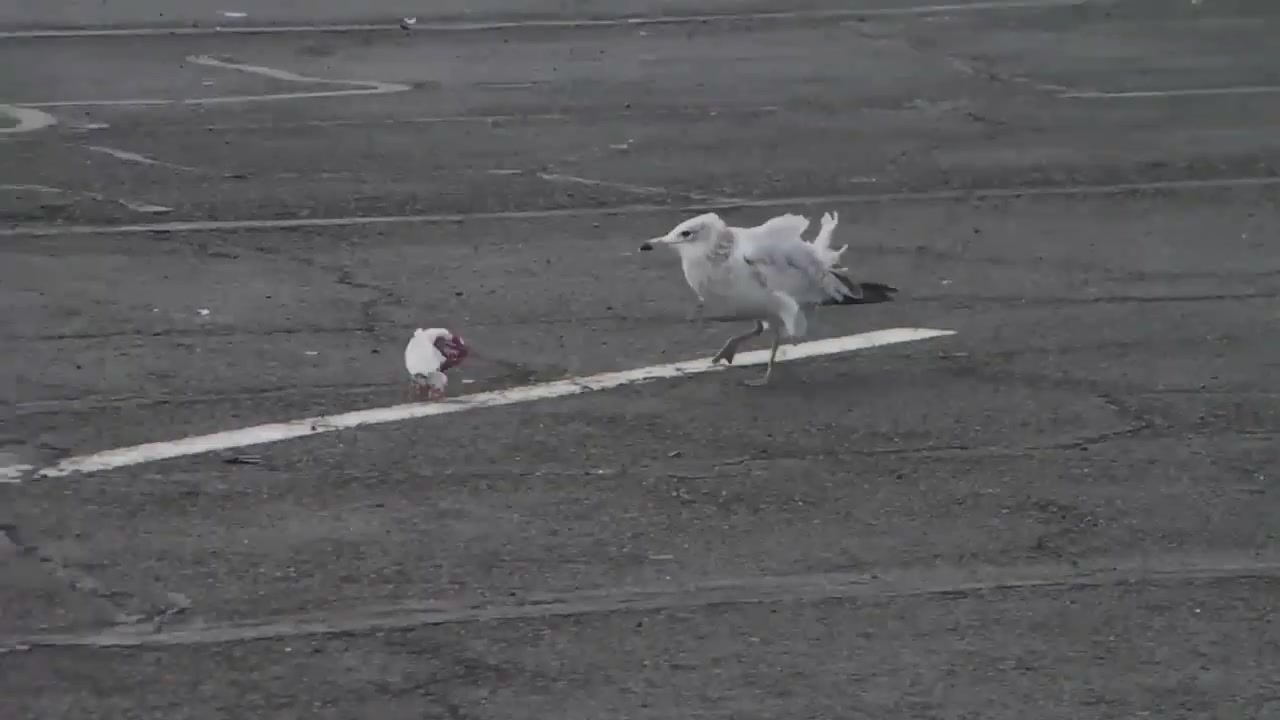bird: (637, 209, 901, 389)
